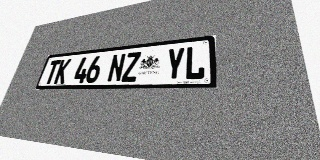4: (72, 57, 91, 83)
6: (84, 55, 104, 83)
K: (53, 59, 72, 84)
L: (184, 45, 205, 80)
N: (106, 53, 126, 82)
T: (43, 60, 61, 84)
Y: (164, 47, 185, 81)
Z: (121, 52, 141, 82)
